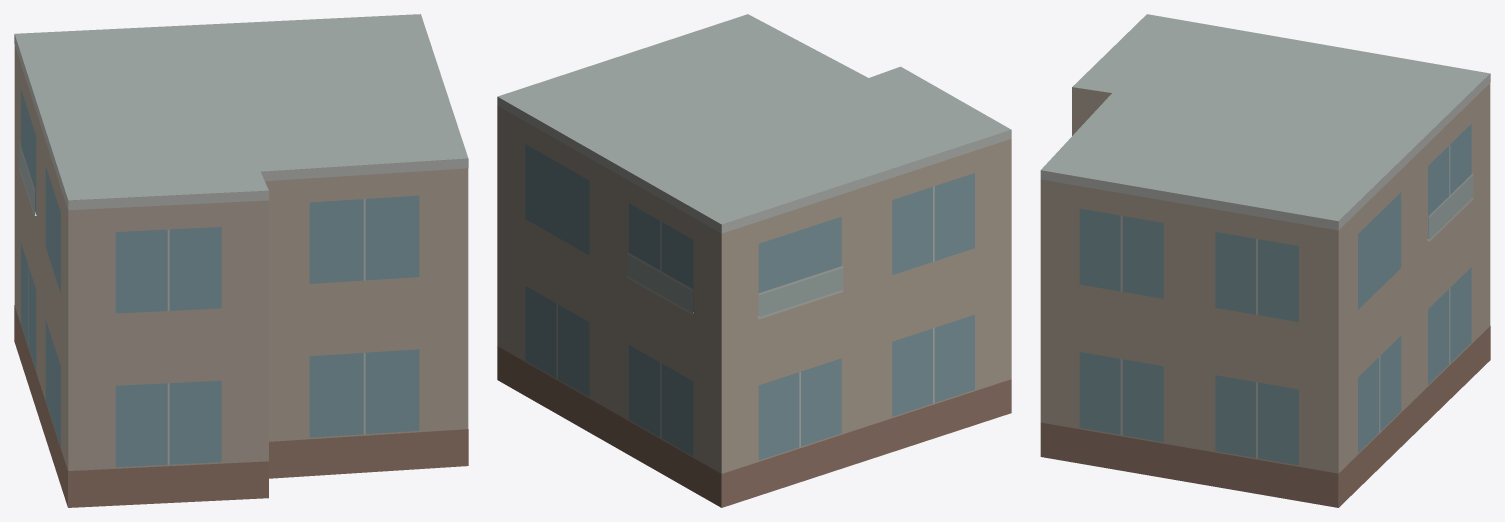
File: survey-upis-32564953.glb
3 renders of one model, left to right at view 1: azimuth 30°, elevation 25°; view 2: azimuth 150°, elevation 25°; view 3: azimuth 270°, elevation 25°, orthographic. The views are drawn at different scales.
Visible parts, largest first — view 1: survey-upis-32564953.tmp; view 2: survey-upis-32564953.tmp; view 3: survey-upis-32564953.tmp.
Part boxes in pixels (x1=…): survey-upis-32564953.tmp: x1=14, y1=14, x2=468, y2=507; survey-upis-32564953.tmp: x1=497, y1=14, x2=1011, y2=507; survey-upis-32564953.tmp: x1=1040, y1=14, x2=1490, y2=507.
Bounding box in the file's own units: 11.79 × 7.6 × 10.82.
